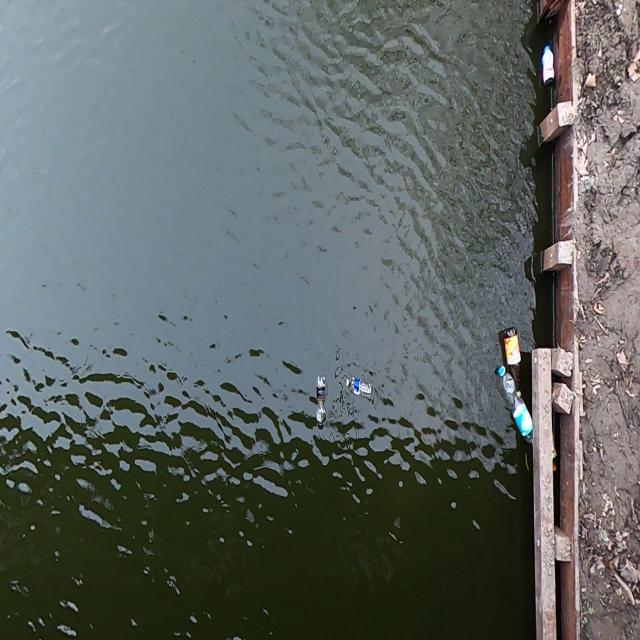Bouteille plastique: (490, 358, 535, 459), (493, 313, 525, 397), (311, 364, 333, 440), (343, 370, 378, 405), (540, 42, 557, 87)
